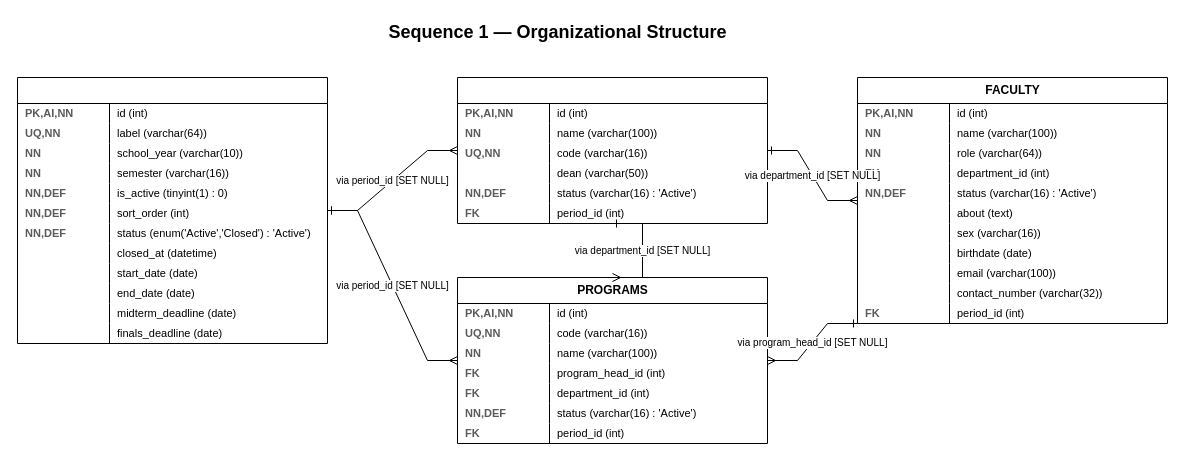
Some shapes in this 1185 by 461 pixel diagram are drawn without their labels. Each missing label, with the box of its shape:
ACADEMIC_PERIODS: (16, 76, 328, 344)
DEPARTMENTS: (456, 76, 768, 224)
